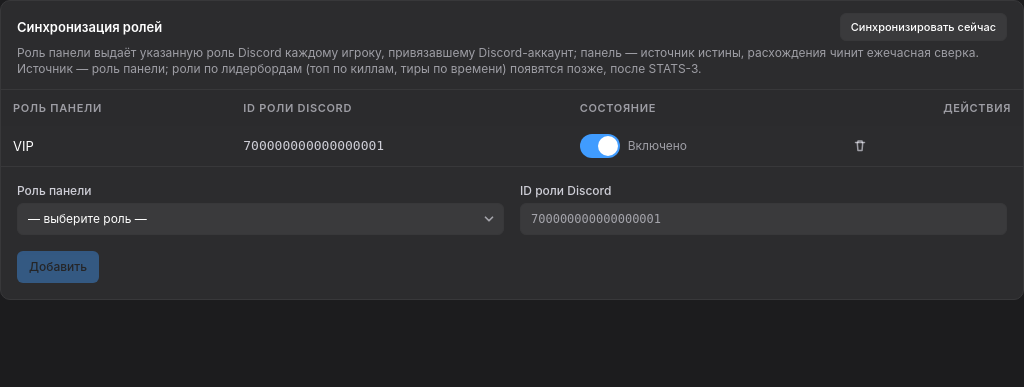
Test: DiscordRoleMappingsSection › surfaces the API error code when creating a duplicate mapping
Select "Moderator" in the dropdown labelled "Роль панели". click: (260,219)
box: [17,203,504,235]
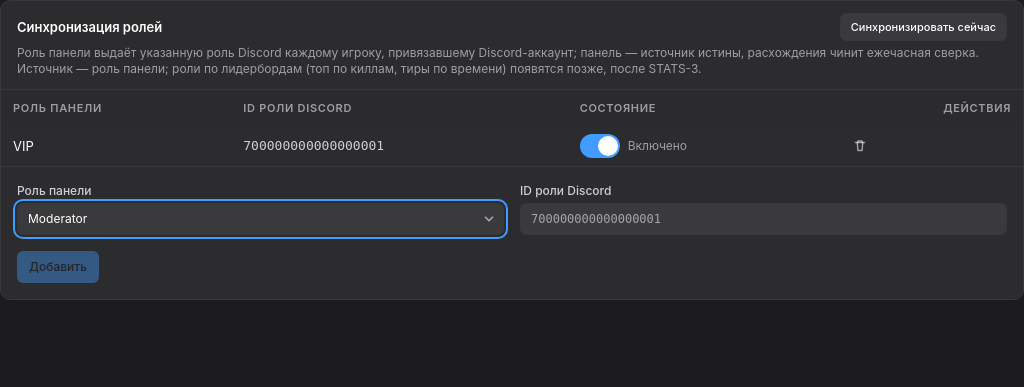
Type "700000000000000002" into the field labelled "ID роли Discord". click: (764,219)
box: [520,203,1007,235]
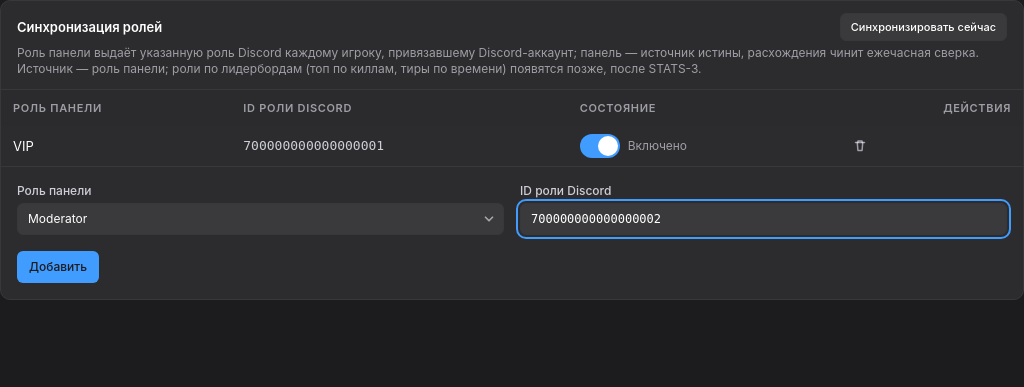
Click the button "Добавить". click: (58,267)
box: [17,251,99,283]
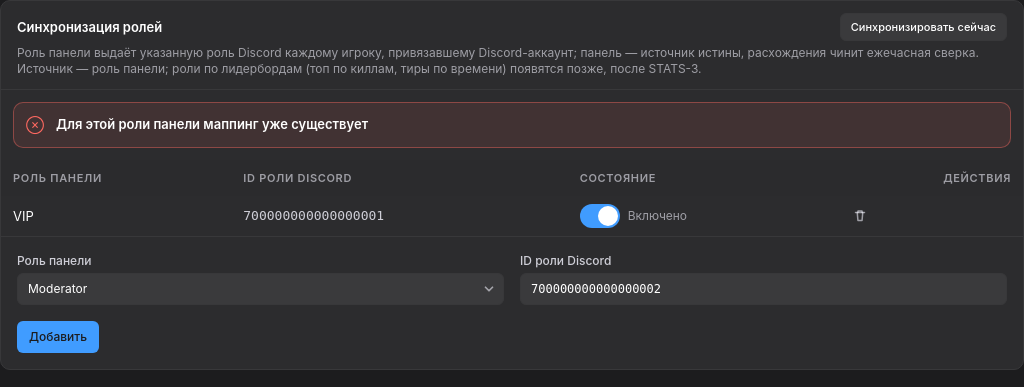
expect the text "Для этой роли панели маппинг уже существует" is shown: met, box [56,116,368,132]
